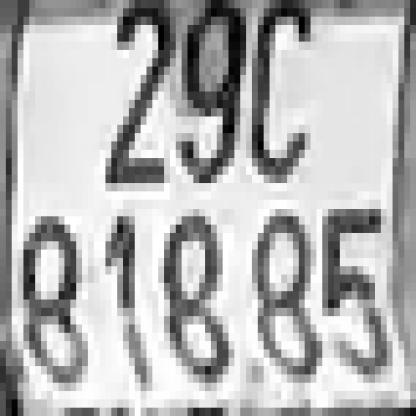1: (106, 208, 152, 391)
5: (316, 208, 381, 374)
8: (23, 208, 82, 383), (164, 208, 223, 374), (252, 208, 310, 366)
C: (246, 8, 305, 183)
